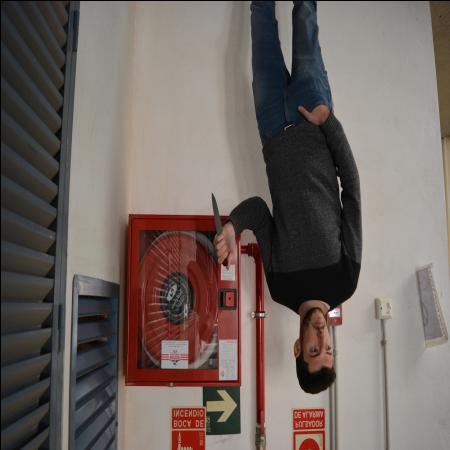long weapon: (209, 188, 228, 272)
